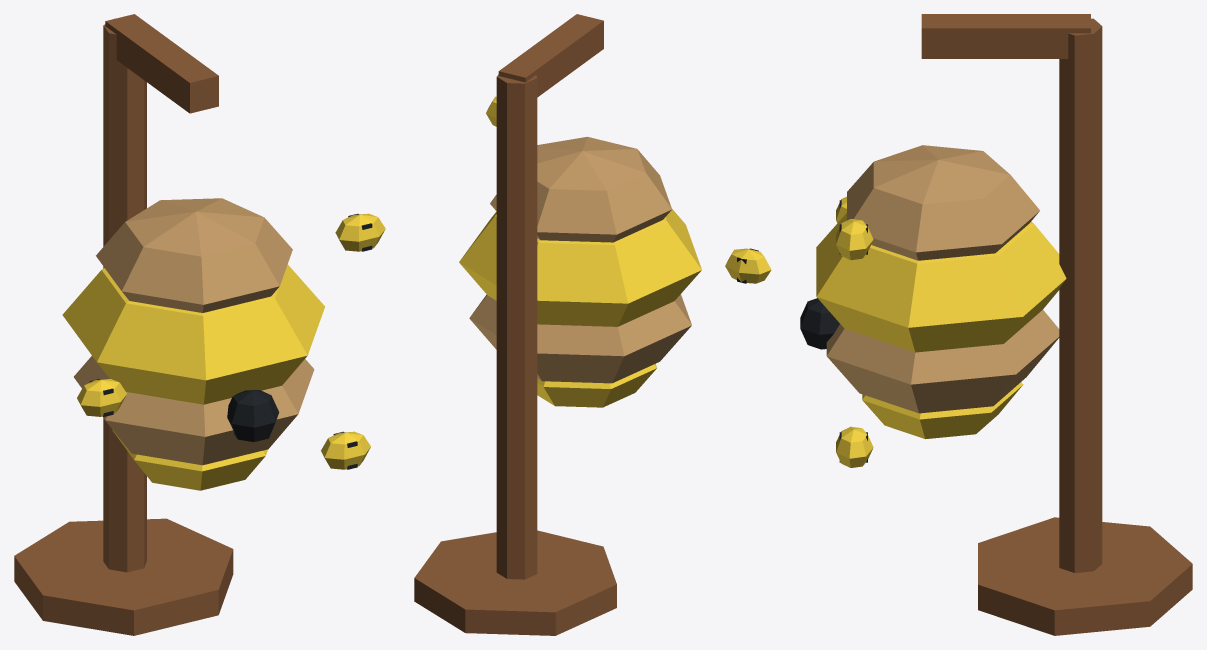
The model's file is wasp-nest-lod1.glb.
The picture shows the model from 3 angles, left to right: view 1: azimuth 30°, elevation 25°; view 2: azimuth 150°, elevation 25°; view 3: azimuth 270°, elevation 25°; orthographic projection. The views are drawn at different scales.
Parts seen in each view (by area): view 1: wasp-nest; view 2: wasp-nest; view 3: wasp-nest.
Boxes of the visible parts, bbox=[...] form: wasp-nest: bbox=[14, 14, 385, 635]; wasp-nest: bbox=[414, 14, 771, 635]; wasp-nest: bbox=[800, 14, 1192, 635].
Size of the model in its own units: 0.6255 by 1.11 by 0.695.
